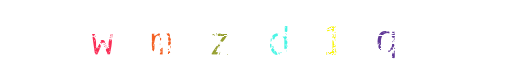1: (239, 0, 319, 80)
D: (224, 0, 304, 80)
M: (176, 0, 256, 80)
Q: (346, 0, 426, 80)
W: (86, 0, 166, 80)
Z: (220, 0, 300, 80)
